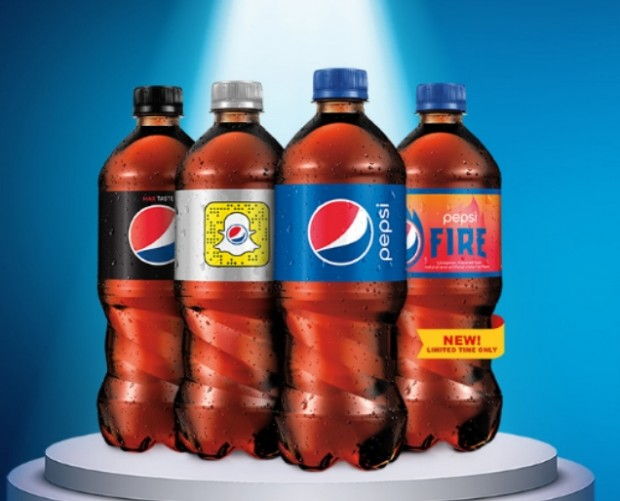pepsi: (305, 195, 374, 266), (127, 201, 174, 264), (405, 218, 419, 264)
